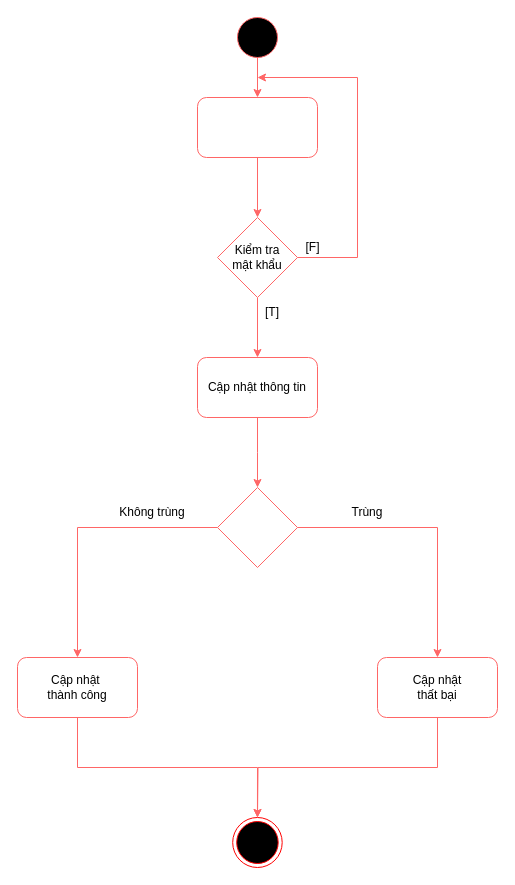
Image size: 515x885. Some labels were removed from this diagram. The centre of each missing label's shape, as x and y in pixels:
Kiểm tra dữ liệu: (x=257, y=527)
Nhập mật khẩu và thông tin mới: (x=257, y=127)
